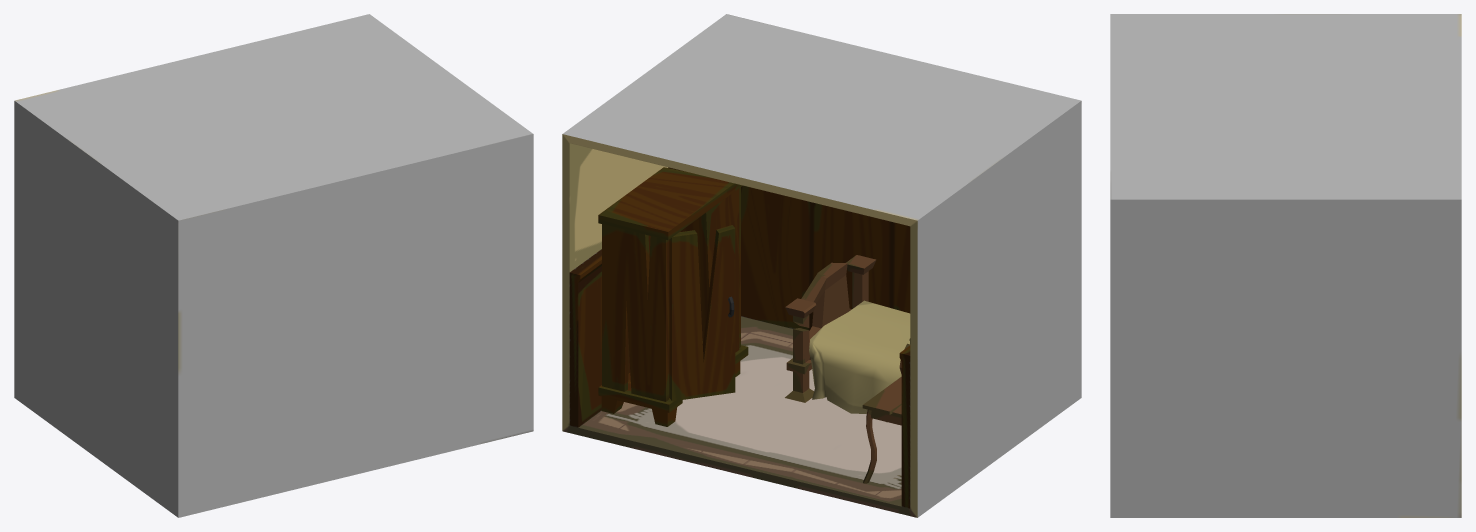
Rendered from RotRoom.fbx.
3 views of the same model, side by side, from view 1: azimuth 30°, elevation 25°; view 2: azimuth 150°, elevation 25°; view 3: azimuth 270°, elevation 25° (orthographic). The views are drawn at different scales.
Visible parts, largest first — view 1: RotWall; view 2: RotWall, RotCabinet, RotBaseboard, RotBed, RotVonity; view 3: RotWall.
Boxes of the visible parts, bbox=[...] form: RotWall: bbox=[14, 14, 533, 517]; RotWall: bbox=[562, 14, 1081, 517]; RotCabinet: bbox=[598, 167, 748, 426]; RotBaseboard: bbox=[569, 185, 910, 508]; RotBed: bbox=[785, 226, 910, 422]; RotVonity: bbox=[862, 338, 910, 483]; RotWall: bbox=[1110, 14, 1461, 517].
Bounding box in the file's own units: 500 × 400 × 400.
Materials: 1 (1 with a texture image).
